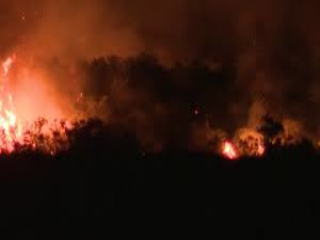fire: (2, 57, 87, 154), (217, 128, 265, 161)
